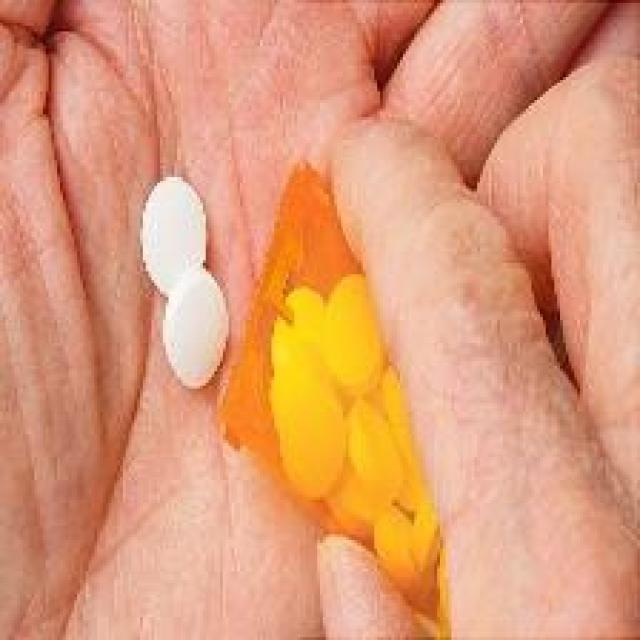Medicine: (116, 128, 524, 608)
